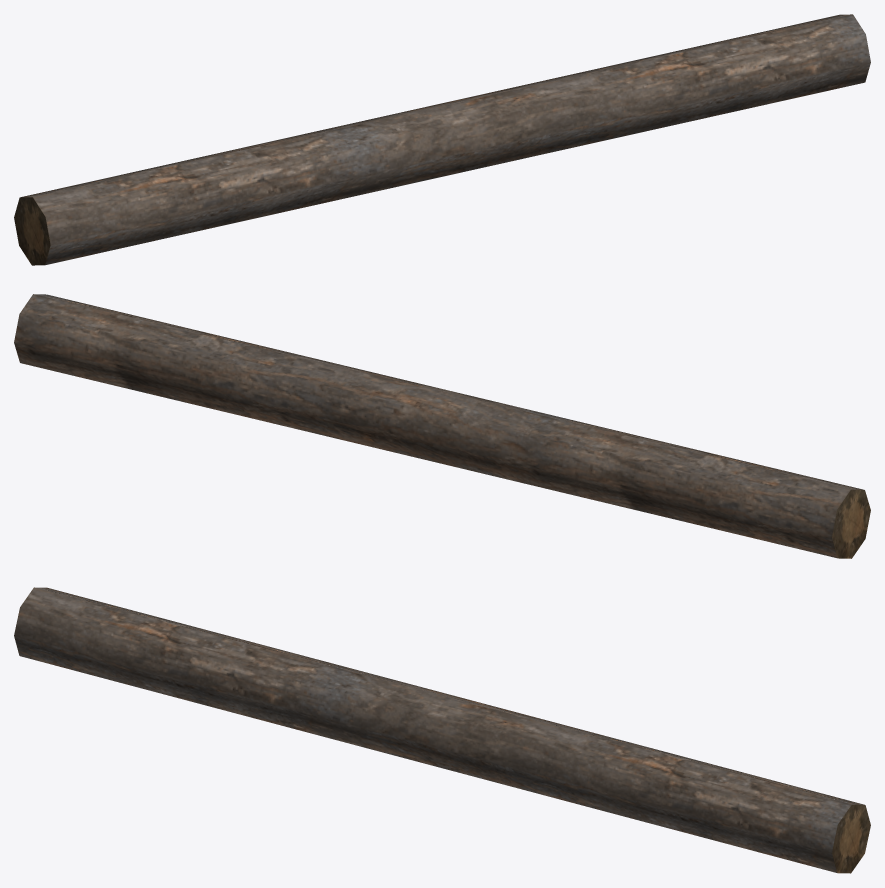
The picture shows the model from 3 angles, top to bottom: view 1: azimuth 30°, elevation 25°; view 2: azimuth 150°, elevation 25°; view 3: azimuth 330°, elevation 25°; orthographic projection.
Visible parts, largest first — view 1: SW_CS_lo; view 2: SW_CS_lo; view 3: SW_CS_lo.
Part boxes in pixels (x1,y1,x2,y2): SW_CS_lo: (14, 14, 870, 265); SW_CS_lo: (14, 294, 870, 558); SW_CS_lo: (14, 587, 870, 873).
Bounding box in the file's own units: 1.29 × 0.1188 × 0.1212.
Materials: 1 (1 with a texture image).
